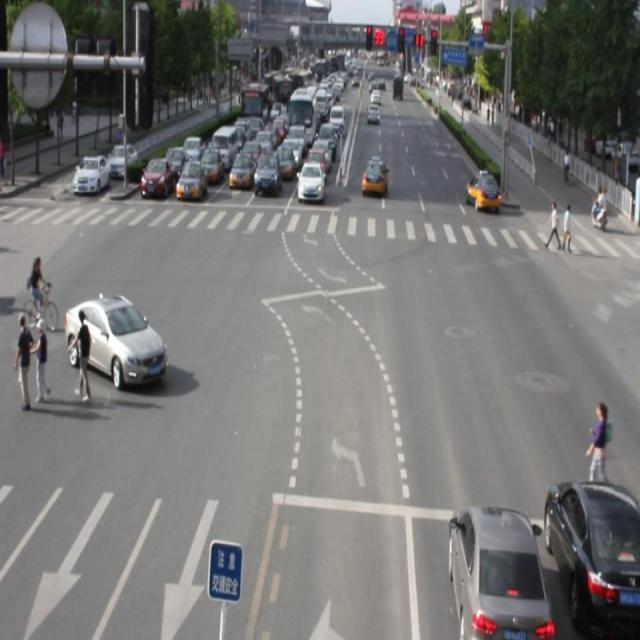car: (537, 450, 640, 640), (438, 496, 550, 640), (60, 269, 168, 401), (357, 148, 399, 203), (464, 165, 498, 224), (137, 152, 174, 204), (235, 76, 275, 123), (285, 91, 320, 144), (252, 160, 287, 201), (227, 148, 258, 194), (301, 160, 330, 206), (78, 153, 107, 194), (199, 147, 226, 190), (184, 158, 210, 202), (209, 128, 238, 167), (165, 141, 192, 179), (179, 130, 204, 166), (254, 126, 278, 163), (286, 124, 309, 162), (279, 141, 304, 175), (108, 147, 134, 178), (327, 106, 348, 138), (312, 142, 332, 173), (362, 102, 383, 131)
